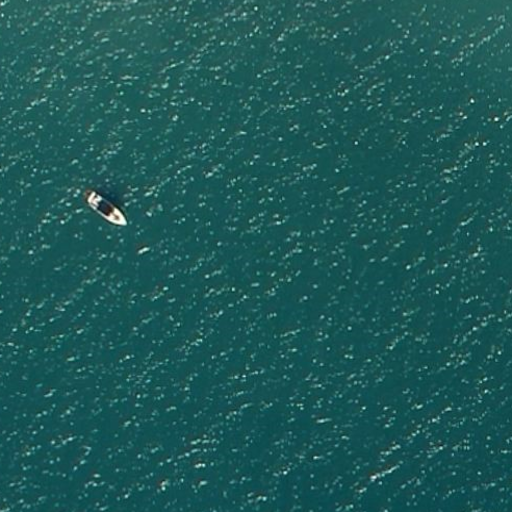ship: (84, 187, 129, 229)
